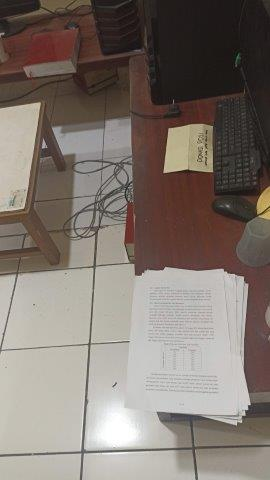kertas: (128, 267, 250, 425)
